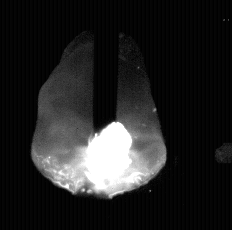arame: (94, 0, 117, 134)
poca: (31, 0, 166, 230)
